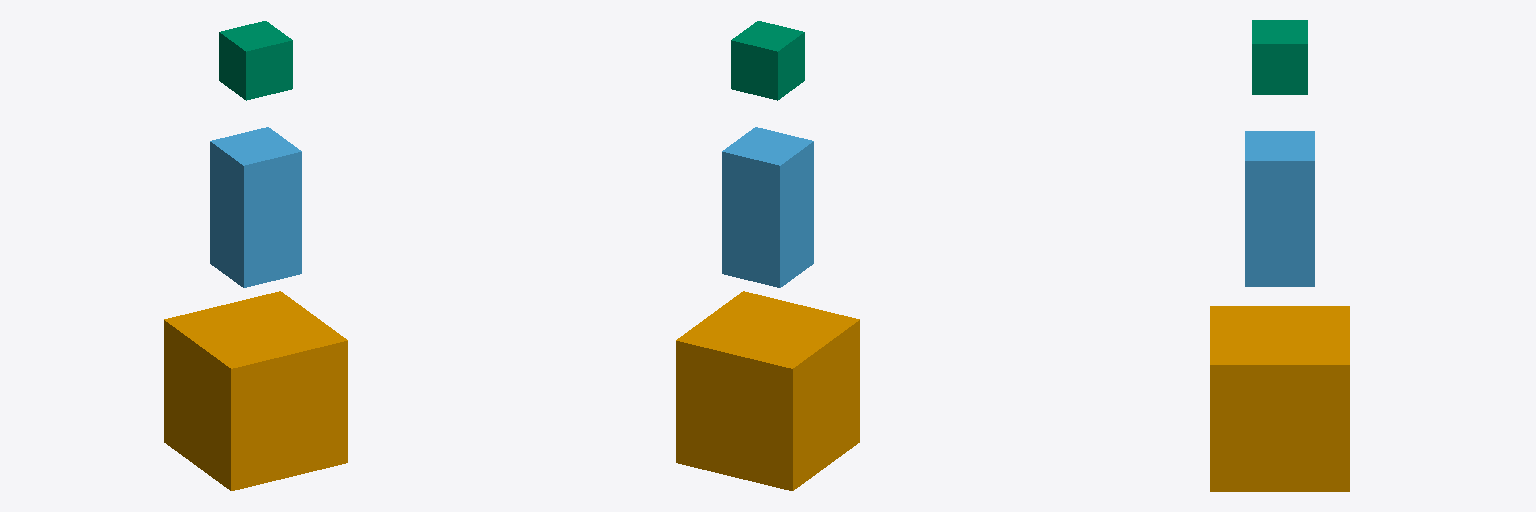
URDF robot description (template_two_joint):
<?xml version="1.0"?>
<!-- 仅用于模板验收的两关节模型：一个旋转关节、一个平移关节，无外部 mesh。 -->
<robot name="template_two_joint">
  <link name="base">
    <inertial>
      <mass value="1"/>
      <inertia ixx="0.01" iyy="0.01" izz="0.01" ixy="0" ixz="0" iyz="0"/>
    </inertial>
    <visual><geometry><box size="0.1 0.1 0.1"/></geometry></visual>
  </link>
  <link name="arm">
    <inertial>
      <mass value="0.1"/>
      <inertia ixx="0.001" iyy="0.001" izz="0.001" ixy="0" ixz="0" iyz="0"/>
    </inertial>
    <visual><geometry><box size="0.05 0.05 0.1"/></geometry></visual>
  </link>
  <link name="tool">
    <inertial>
      <mass value="0.1"/>
      <inertia ixx="0.001" iyy="0.001" izz="0.001" ixy="0" ixz="0" iyz="0"/>
    </inertial>
    <visual><geometry><box size="0.04 0.04 0.04"/></geometry></visual>
  </link>
  <link name="tcp"/>
  <!-- 有意让 XML 顺序不同于运动链顺序。 -->
  <joint name="slide" type="prismatic">
    <parent link="arm"/><child link="tool"/>
    <origin xyz="0 0 0.12"/><axis xyz="1 0 0"/>
    <limit lower="0" upper="0.2" effort="20" velocity="0.2"/>
  </joint>
  <joint name="hinge" type="revolute">
    <parent link="base"/><child link="arm"/>
    <origin xyz="0 0 0.15"/><axis xyz="0 0 1"/>
    <limit lower="-1" upper="1" effort="20" velocity="1"/>
  </joint>
  <joint name="tcp_fixed" type="fixed">
    <parent link="tool"/><child link="tcp"/><origin xyz="0.04 0 0"/>
  </joint>
</robot>

--- Render facts (derived) ---
The picture shows the robot from 3 angles, left to right: view 1: azimuth 30°, elevation 25°; view 2: azimuth 150°, elevation 25°; view 3: azimuth 270°, elevation 25°; orthographic projection.
Model template_two_joint with 4 links and 3 joints (1 revolute, 1 prismatic, 1 fixed), rooted at base, posed every joint at zero.
Links seen in each view (by area): view 1: base, arm, tool; view 2: base, arm, tool; view 3: base, arm, tool.
Boxes of the visible links, x1=… form: base: x1=164, y1=291, x2=347, y2=490; arm: x1=210, y1=127, x2=301, y2=287; tool: x1=219, y1=21, x2=292, y2=100; base: x1=676, y1=291, x2=859, y2=490; arm: x1=722, y1=127, x2=813, y2=287; tool: x1=731, y1=21, x2=804, y2=100; base: x1=1210, y1=306, x2=1349, y2=491; arm: x1=1245, y1=131, x2=1314, y2=286; tool: x1=1252, y1=20, x2=1307, y2=94.
Bounding box of the posed robot: 0.1 × 0.1 × 0.34 m (x, y, z).
Geometry: primitives only (box / cylinder / sphere), no mesh files.
